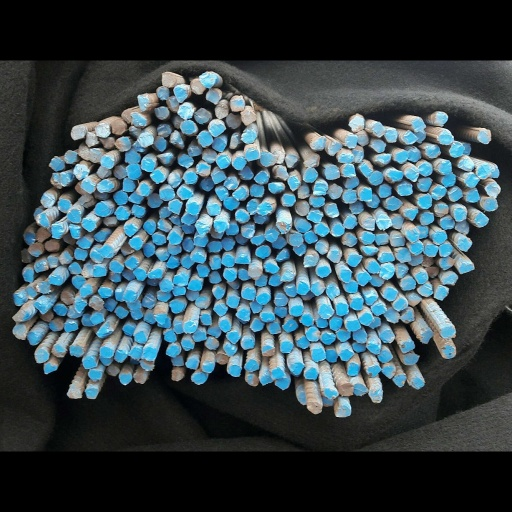dipstick: (94, 322, 112, 338), (50, 173, 69, 188), (200, 72, 217, 88), (124, 149, 140, 165), (194, 108, 210, 124), (226, 113, 242, 129), (129, 112, 146, 127), (178, 103, 193, 120), (95, 122, 110, 138), (40, 192, 55, 208), (74, 164, 89, 180), (138, 132, 154, 147), (209, 122, 225, 137), (206, 89, 222, 104), (260, 151, 277, 165), (12, 309, 30, 322), (96, 179, 114, 192), (12, 325, 27, 340), (113, 190, 128, 205), (126, 164, 141, 179), (259, 370, 274, 385), (198, 131, 213, 146), (242, 110, 257, 125), (324, 165, 339, 180), (368, 170, 383, 185), (397, 180, 412, 195), (123, 178, 139, 192), (116, 136, 130, 152), (180, 120, 196, 134), (191, 78, 205, 94), (241, 130, 257, 144), (295, 200, 309, 216), (437, 130, 453, 144), (449, 141, 463, 157), (485, 183, 501, 197), (136, 94, 149, 111), (190, 372, 208, 384), (81, 218, 96, 232), (95, 202, 109, 217), (34, 349, 49, 363), (89, 297, 104, 311), (142, 347, 157, 361), (90, 248, 104, 263), (88, 148, 103, 162), (147, 193, 162, 207), (223, 267, 237, 282), (224, 196, 239, 210), (216, 154, 230, 169), (211, 170, 226, 184), (238, 166, 253, 180), (212, 136, 226, 151), (174, 87, 188, 102), (254, 170, 269, 184), (285, 154, 300, 168), (303, 167, 317, 182), (313, 181, 328, 195), (310, 282, 325, 296), (305, 327, 320, 341), (356, 272, 371, 286), (370, 273, 385, 287), (379, 264, 393, 279), (394, 263, 408, 278), (325, 202, 339, 217), (350, 116, 364, 131), (416, 177, 431, 191), (431, 185, 446, 199), (475, 164, 489, 179), (276, 220, 292, 233), (268, 180, 284, 193), (334, 404, 350, 417), (379, 330, 395, 343), (359, 231, 375, 244), (57, 199, 71, 213), (50, 224, 64, 238), (67, 209, 81, 223), (72, 275, 86, 289), (34, 300, 48, 314), (113, 165, 127, 179), (141, 158, 155, 172), (150, 169, 164, 183), (111, 120, 125, 134), (155, 106, 169, 120), (167, 173, 181, 187), (224, 176, 238, 190), (196, 162, 210, 176), (202, 149, 216, 163), (233, 156, 247, 170), (297, 184, 311, 198), (315, 222, 329, 236), (311, 348, 325, 362), (385, 308, 399, 322), (396, 248, 410, 262), (391, 232, 405, 246), (403, 130, 417, 144), (404, 166, 418, 180), (418, 195, 432, 209), (441, 345, 455, 359), (455, 220, 469, 234), (448, 187, 462, 201), (474, 213, 488, 227), (465, 174, 479, 188), (49, 157, 64, 170), (37, 213, 50, 228), (28, 244, 43, 257), (170, 299, 185, 312), (173, 273, 188, 286), (143, 219, 156, 234), (157, 219, 172, 232), (232, 187, 247, 200), (162, 72, 175, 87), (287, 176, 300, 191), (304, 153, 319, 166), (310, 194, 325, 207), (338, 383, 353, 396), (318, 305, 333, 318), (347, 253, 362, 266), (408, 242, 423, 255), (404, 228, 419, 241), (372, 122, 385, 137), (386, 197, 401, 210), (432, 231, 447, 244), (434, 285, 447, 300), (458, 158, 473, 171), (139, 358, 155, 370), (167, 96, 179, 112), (282, 319, 298, 331), (295, 219, 311, 231), (341, 191, 357, 203), (343, 176, 359, 188), (181, 213, 198, 224), (85, 132, 98, 146), (28, 331, 41, 345), (60, 291, 74, 304), (81, 313, 95, 326), (133, 371, 147, 384), (123, 322, 136, 336), (81, 180, 95, 193), (115, 206, 129, 219), (124, 224, 138, 237), (129, 237, 143, 250), (169, 200, 182, 214), (153, 137, 166, 151), (191, 251, 205, 264), (224, 343, 237, 357), (289, 362, 303, 375), (236, 309, 249, 323), (274, 293, 288, 306), (221, 237, 235, 250), (206, 202, 220, 215), (215, 186, 228, 200), (235, 210, 249, 223), (247, 200, 260, 214), (258, 202, 272, 215), (250, 184, 264, 197), (179, 155, 193, 168), (188, 143, 202, 156), (215, 104, 228, 118), (229, 98, 243, 111), (272, 236, 286, 249), (311, 137, 325, 150), (296, 282, 310, 295), (358, 313, 372, 326), (327, 250, 341, 263), (342, 233, 356, 246), (383, 287, 397, 300), (418, 283, 432, 296), (328, 185, 342, 198), (328, 141, 341, 155), (359, 162, 372, 176), (377, 216, 391, 229), (390, 215, 403, 229), (412, 130, 426, 143), (418, 163, 432, 176), (425, 265, 439, 278), (458, 237, 471, 251), (440, 216, 454, 229), (434, 203, 448, 216), (442, 173, 455, 187), (483, 198, 497, 211), (477, 131, 491, 144), (51, 345, 66, 357), (68, 306, 83, 318), (155, 248, 170, 260), (159, 188, 174, 200), (182, 237, 194, 252), (270, 367, 285, 379), (255, 292, 270, 304), (255, 246, 270, 258), (245, 148, 260, 160), (401, 278, 416, 290), (442, 272, 457, 284), (440, 326, 455, 338), (322, 388, 338, 399), (71, 126, 84, 139), (64, 150, 77, 163), (24, 285, 37, 298), (119, 372, 132, 385), (74, 247, 87, 260), (132, 204, 145, 217), (101, 155, 114, 168), (186, 202, 199, 215), (226, 331, 239, 344), (250, 318, 263, 331), (196, 222, 209, 235), (241, 225, 254, 238), (275, 167, 288, 180), (289, 233, 302, 246), (276, 248, 289, 261), (315, 241, 328, 254), (419, 331, 432, 344), (342, 164, 355, 177), (359, 188, 372, 201), (412, 118, 425, 131), (435, 111, 448, 124), (408, 148, 421, 161), (439, 243, 452, 256), (453, 208, 466, 221), (45, 240, 59, 252), (88, 369, 102, 381), (82, 357, 96, 369), (49, 319, 63, 331), (109, 261, 123, 273), (163, 330, 177, 342), (166, 345, 180, 357), (159, 280, 173, 292), (132, 269, 146, 281), (152, 233, 166, 245), (178, 187, 192, 199), (227, 365, 241, 377), (245, 360, 259, 372), (245, 373, 257, 387), (275, 377, 289, 389), (279, 341, 293, 353), (241, 288, 255, 300), (248, 267, 262, 279), (183, 172, 197, 184), (201, 177, 213, 191), (281, 269, 295, 281), (293, 244, 307, 256), (339, 349, 353, 361), (353, 383, 367, 395), (367, 365, 381, 377), (410, 377, 424, 389), (401, 341, 415, 353), (326, 285, 340, 297), (349, 298, 363, 310), (401, 310, 415, 322), (349, 201, 363, 213), (371, 140, 385, 152), (425, 145, 439, 157), (424, 244, 438, 256), (439, 256, 453, 268), (48, 275, 63, 286), (90, 313, 105, 324), (192, 330, 207, 341), (187, 279, 202, 290), (260, 312, 275, 323), (213, 220, 228, 231), (459, 263, 474, 274), (337, 152, 353, 162), (387, 170, 403, 180), (68, 262, 81, 274), (13, 293, 25, 306), (70, 345, 83, 357), (54, 303, 66, 316), (100, 346, 113, 358), (106, 364, 119, 376), (129, 347, 142, 359), (134, 331, 146, 344), (115, 306, 128, 318), (105, 298, 117, 311), (93, 265, 106, 277), (101, 245, 113, 258), (142, 296, 155, 308), (183, 321, 196, 333), (125, 257, 138, 269), (94, 229, 106, 242), (181, 256, 194, 268), (168, 232, 181, 244), (196, 265, 209, 277), (205, 337, 218, 349), (214, 304, 227, 316), (219, 319, 231, 332), (268, 322, 281, 334), (249, 301, 262, 313), (209, 256, 221, 269), (222, 254, 234, 267), (238, 268, 251, 280), (274, 306, 287, 318), (208, 240, 221, 252), (268, 274, 281, 286), (285, 284, 297, 297), (265, 229, 278, 241), (282, 194, 295, 206), (296, 337, 309, 349), (305, 367, 318, 379), (326, 349, 338, 362), (347, 363, 360, 375), (382, 365, 394, 378), (330, 317, 342, 330), (335, 303, 348, 315), (337, 329, 350, 341), (378, 350, 391, 362), (393, 298, 406, 310), (408, 293, 421, 305), (367, 261, 380, 273), (343, 216, 356, 228), (414, 271, 427, 283), (375, 233, 388, 245), (385, 129, 397, 142), (379, 184, 391, 197), (367, 194, 379, 207), (404, 207, 417, 219), (439, 161, 451, 174), (420, 212, 433, 224), (466, 189, 479, 201), (34, 261, 48, 272), (98, 287, 112, 298), (77, 237, 91, 248), (157, 290, 171, 301), (182, 223, 196, 234), (195, 297, 209, 308), (261, 345, 275, 356), (289, 305, 303, 316), (225, 224, 239, 235), (321, 333, 335, 344), (346, 320, 360, 331), (366, 343, 380, 354), (404, 353, 418, 364), (302, 255, 316, 266), (345, 134, 356, 148), (60, 252, 72, 264), (157, 87, 169, 99), (200, 313, 212, 325), (202, 361, 214, 373), (227, 296, 239, 308), (212, 287, 224, 299), (209, 271, 221, 283), (301, 314, 313, 326), (370, 391, 382, 403), (394, 374, 406, 386), (339, 270, 351, 282), (331, 223, 343, 235), (378, 253, 394, 262), (85, 388, 98, 399), (123, 290, 136, 301), (154, 313, 167, 324), (171, 355, 184, 366), (171, 369, 184, 380), (186, 358, 199, 369), (181, 339, 194, 350), (173, 321, 184, 334), (143, 244, 154, 257), (168, 243, 181, 254), (130, 192, 143, 203), (215, 353, 228, 364), (265, 262, 278, 273), (304, 231, 317, 242), (353, 341, 366, 352), (372, 304, 385, 315), (363, 217, 374, 230), (395, 151, 408, 162), (421, 255, 434, 266), (39, 311, 53, 321), (43, 363, 57, 373), (64, 322, 78, 332), (185, 290, 199, 300), (251, 235, 265, 245), (344, 282, 358, 292), (408, 255, 422, 265), (489, 164, 499, 178), (235, 254, 250, 263), (362, 246, 377, 255), (24, 233, 35, 245), (80, 286, 92, 297), (115, 350, 126, 362), (167, 257, 179, 268), (159, 207, 171, 218), (242, 337, 253, 349), (255, 275, 267, 286), (369, 316, 380, 328), (317, 266, 329, 277), (416, 226, 428, 237), (24, 270, 34, 283), (130, 309, 143, 319), (148, 269, 162, 278), (144, 312, 155, 323), (67, 390, 82, 398), (316, 317, 328, 327), (172, 286, 185, 295), (377, 154, 390, 163), (462, 142, 471, 155), (365, 295, 377, 304)
